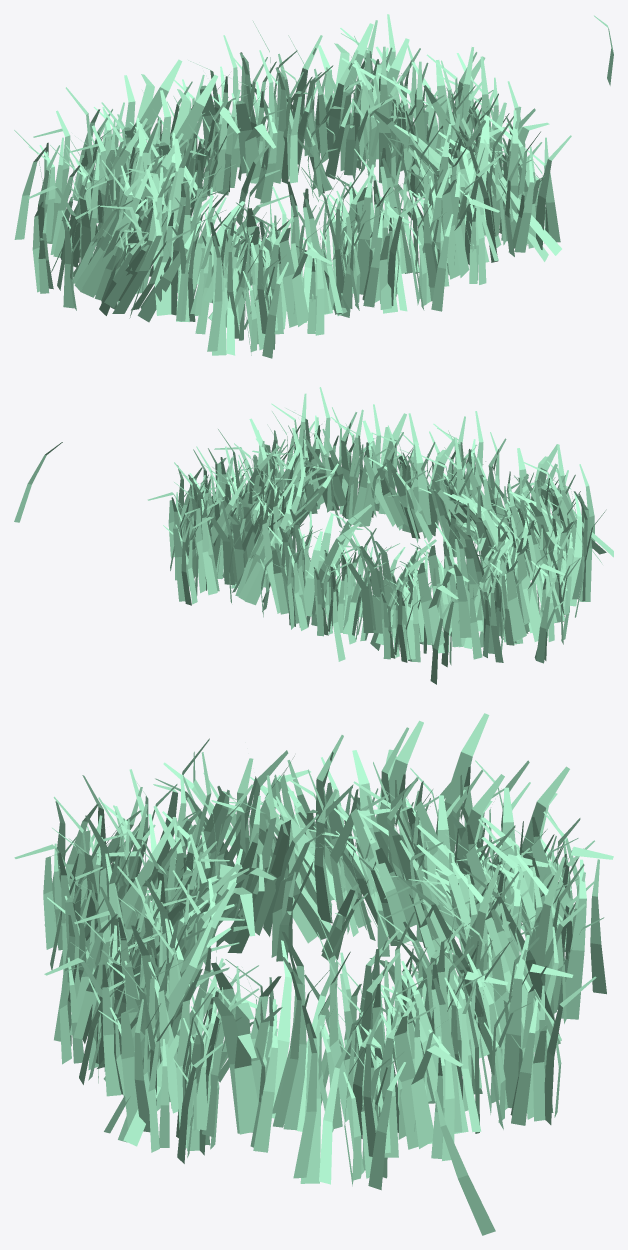
Rendered from 041520grassModel02.gltf.
3 renders of one model, top to bottom at view 1: azimuth 30°, elevation 25°; view 2: azimuth 150°, elevation 25°; view 3: azimuth 270°, elevation 25°, orthographic. The views are drawn at different scales.
Visible parts, largest first — view 1: Plane.419, Plane.599, Plane.580, Plane.464, Plane.385, Plane.382, Plane.629, Plane.567, Plane.610, Plane.340, Plane.579, Plane.566 (+66 smaller); view 2: Plane.441, Plane.490, Plane.449, Plane.442, Plane.536, Plane.124, Plane.517, Plane.111, Plane.704, Plane.378, Plane.496, Plane.148 (+35 smaller); view 3: Plane.706, Plane.675, Plane.542, Plane.725, Plane.726, Plane.089, Plane.674, Plane.738, Plane.683, Plane.739, Plane.441, Plane.619 (+57 smaller).
Boxes of the visible parts, bbox=[...] form: Plane.419: bbox=[80, 163, 152, 297]; Plane.599: bbox=[357, 164, 374, 294]; Plane.580: bbox=[279, 227, 297, 327]; Plane.464: bbox=[379, 46, 392, 182]; Plane.385: bbox=[112, 198, 161, 313]; Plane.382: bbox=[137, 220, 201, 322]; Plane.629: bbox=[442, 179, 459, 279]; Plane.567: bbox=[207, 235, 222, 351]; Plane.610: bbox=[501, 110, 518, 240]; Plane.340: bbox=[169, 74, 217, 171]; Plane.579: bbox=[292, 249, 332, 326]; Plane.566: bbox=[210, 222, 226, 355]; Plane.441: bbox=[506, 561, 526, 641]; Plane.490: bbox=[245, 484, 294, 605]; Plane.449: bbox=[453, 564, 471, 637]; Plane.442: bbox=[516, 537, 541, 641]; Plane.536: bbox=[303, 531, 322, 616]; Plane.124: bbox=[345, 409, 363, 518]; Plane.517: bbox=[417, 562, 432, 643]; Plane.111: bbox=[359, 404, 380, 526]; Plane.704: bbox=[202, 500, 217, 595]; Plane.378: bbox=[570, 493, 581, 606]; Plane.496: bbox=[192, 517, 234, 585]; Plane.148: bbox=[414, 441, 431, 526]; Plane.706: bbox=[503, 935, 529, 1108]; Plane.675: bbox=[234, 1033, 258, 1134]; Plane.542: bbox=[561, 859, 586, 1019]; Plane.725: bbox=[394, 1015, 431, 1149]; Plane.726: bbox=[411, 1045, 463, 1148]; Plane.089: bbox=[434, 1091, 495, 1235]; Plane.674: bbox=[282, 957, 306, 1130]; Plane.738: bbox=[293, 1023, 317, 1178]; Plane.683: bbox=[253, 1020, 277, 1152]; Plane.739: bbox=[300, 1005, 321, 1183]; Plane.441: bbox=[444, 713, 489, 853]; Plane.619: bbox=[102, 964, 121, 1096].
Bounding box in the file's own units: 123 × 31.95 × 77.46.
